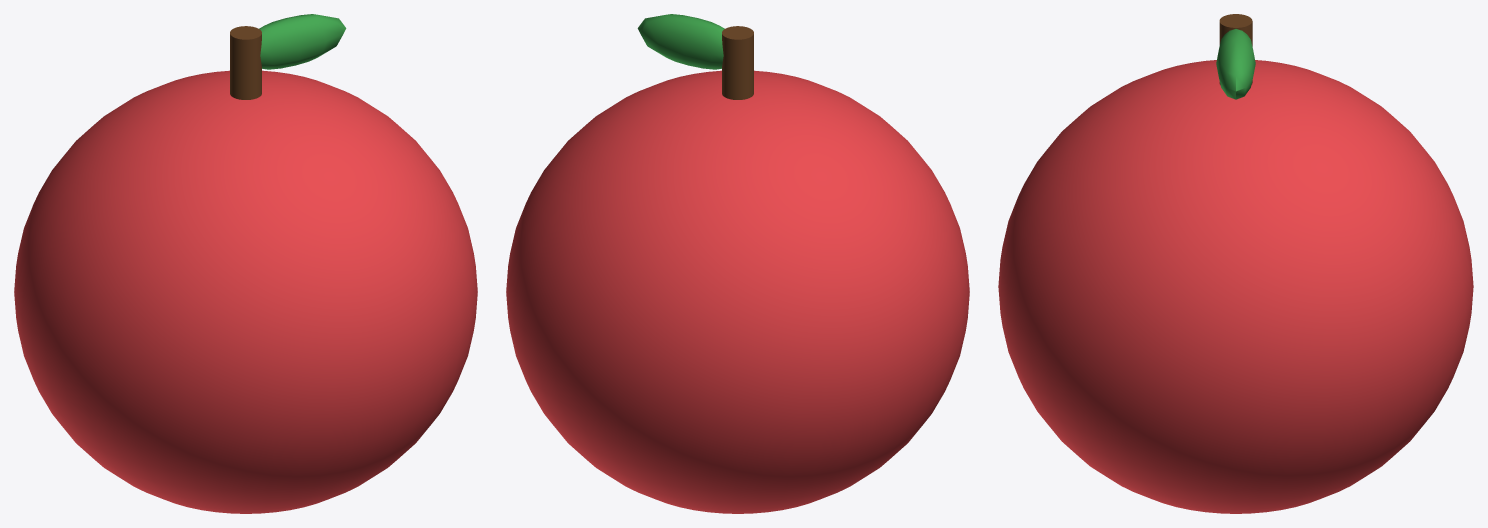
Rendered from jablko.glb.
3 views of the same model, side by side, from view 1: azimuth 30°, elevation 25°; view 2: azimuth 150°, elevation 25°; view 3: azimuth 270°, elevation 25° (orthographic). The views are drawn at different scales.
Visible parts, largest first — view 1: jablko_slupka, jablko_cele_list, jablko_cele_stopka; view 2: jablko_slupka, jablko_cele_list, jablko_cele_stopka; view 3: jablko_slupka, jablko_cele_list, jablko_cele_stopka.
Part boxes in pixels (x1=…): jablko_slupka: x1=14, y1=70, x2=477, y2=513; jablko_cele_list: x1=259, y1=14, x2=346, y2=69; jablko_cele_stopka: x1=230, y1=26, x2=261, y2=99; jablko_slupka: x1=506, y1=70, x2=969, y2=513; jablko_cele_list: x1=637, y1=14, x2=724, y2=69; jablko_cele_stopka: x1=722, y1=26, x2=753, y2=99; jablko_slupka: x1=998, y1=60, x2=1473, y2=513; jablko_cele_list: x1=1216, y1=29, x2=1255, y2=99; jablko_cele_stopka: x1=1219, y1=14, x2=1252, y2=84.
Size of the model in its own units: 0.72 by 0.792 by 0.72.
